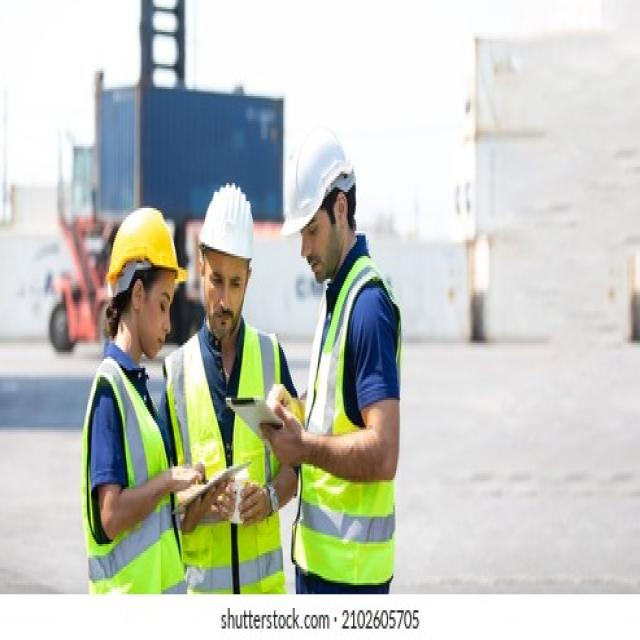helmet: (288, 119, 348, 234), (114, 205, 182, 301), (199, 175, 255, 275)
no-goggles: (194, 259, 258, 295), (298, 206, 329, 249), (146, 274, 172, 316)
vest: (292, 256, 404, 611), (180, 322, 288, 582), (86, 342, 184, 596)
